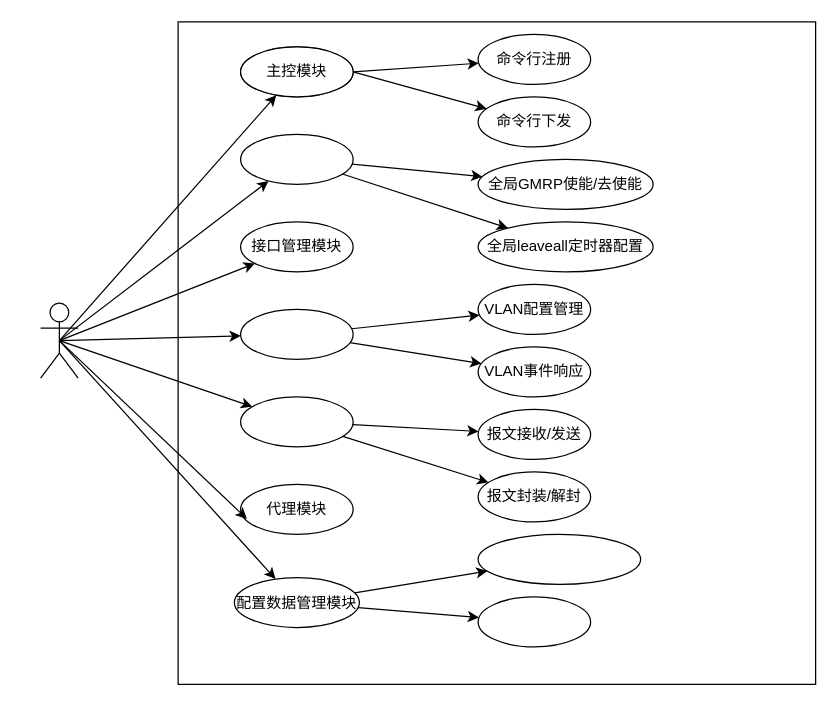
Image size: 838x706. Some labels were removed from this diagram. Each missing label, with the centre of its shape:
VLAN管理模块: (x=296, y=333)
主备转换: (x=534, y=621)
全局管理模块: (x=296, y=158)
实时备份/批量备份: (x=559, y=558)
报文处理模块: (x=296, y=421)
系统管理员: (x=58, y=340)
